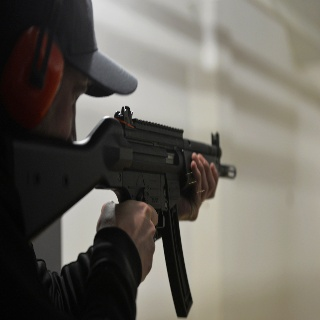rifle: (1, 104, 238, 320)
